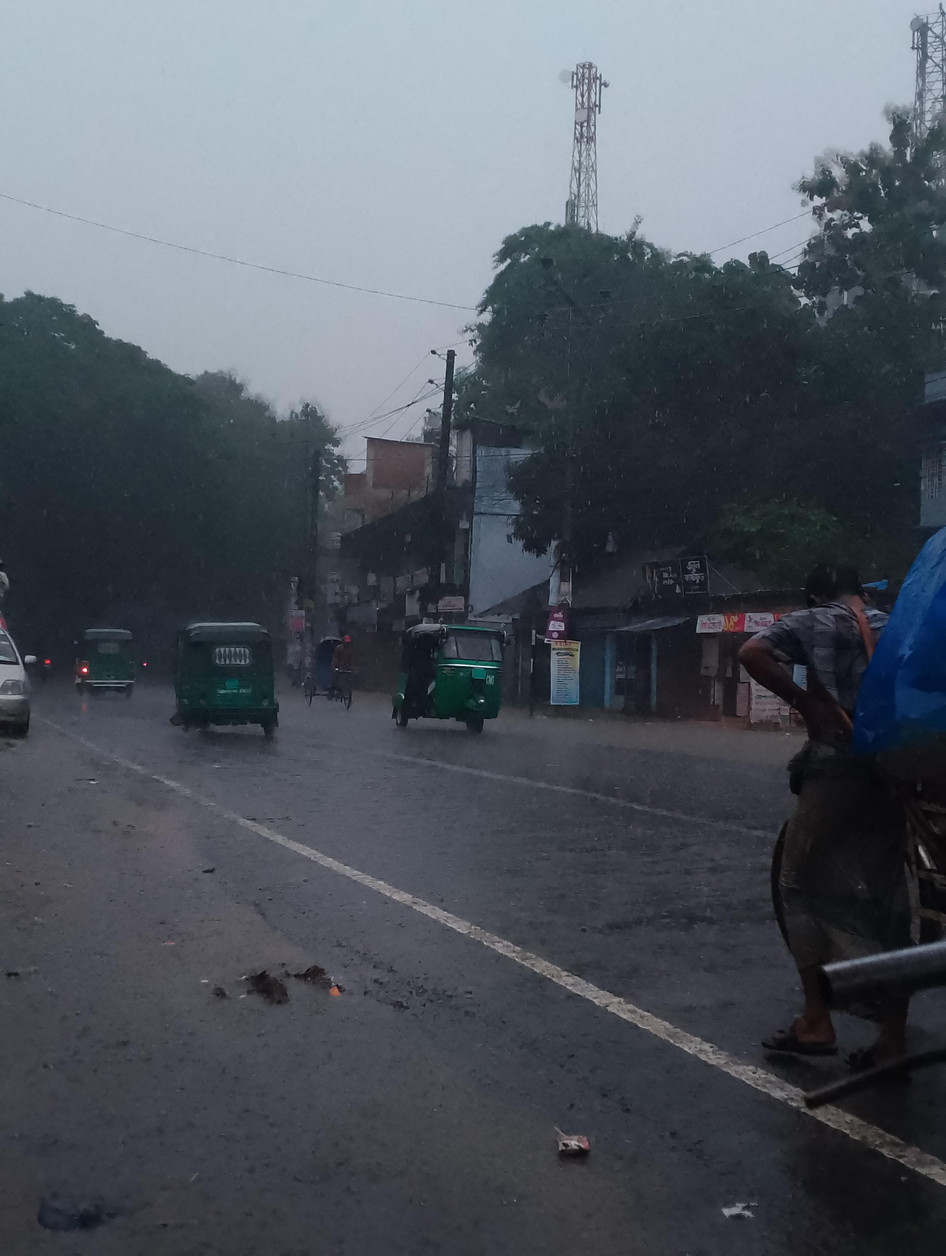Car: (0, 607, 36, 749)
